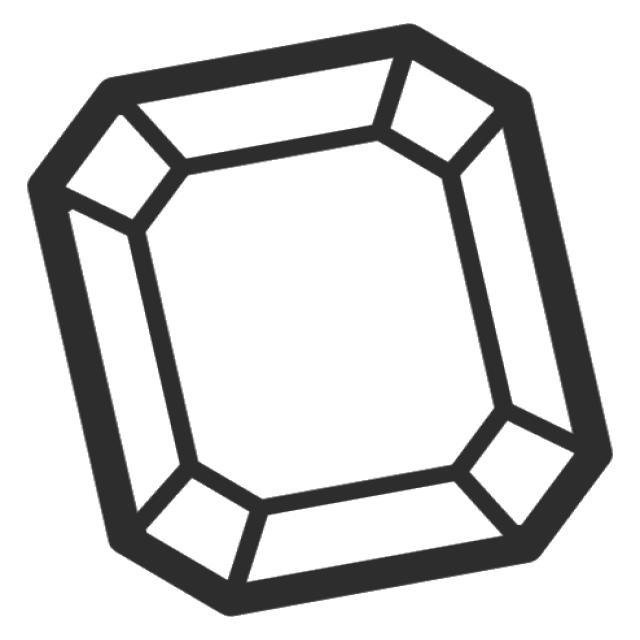emerald: (17, 16, 620, 623)
